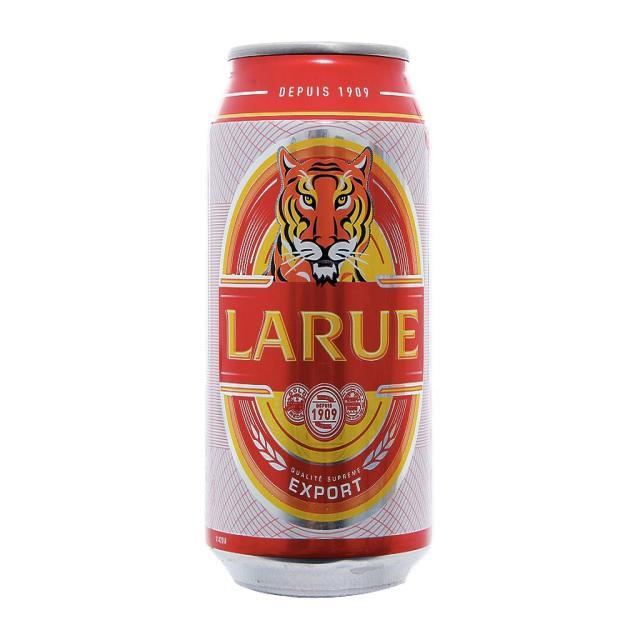can: (205, 43, 432, 599)
